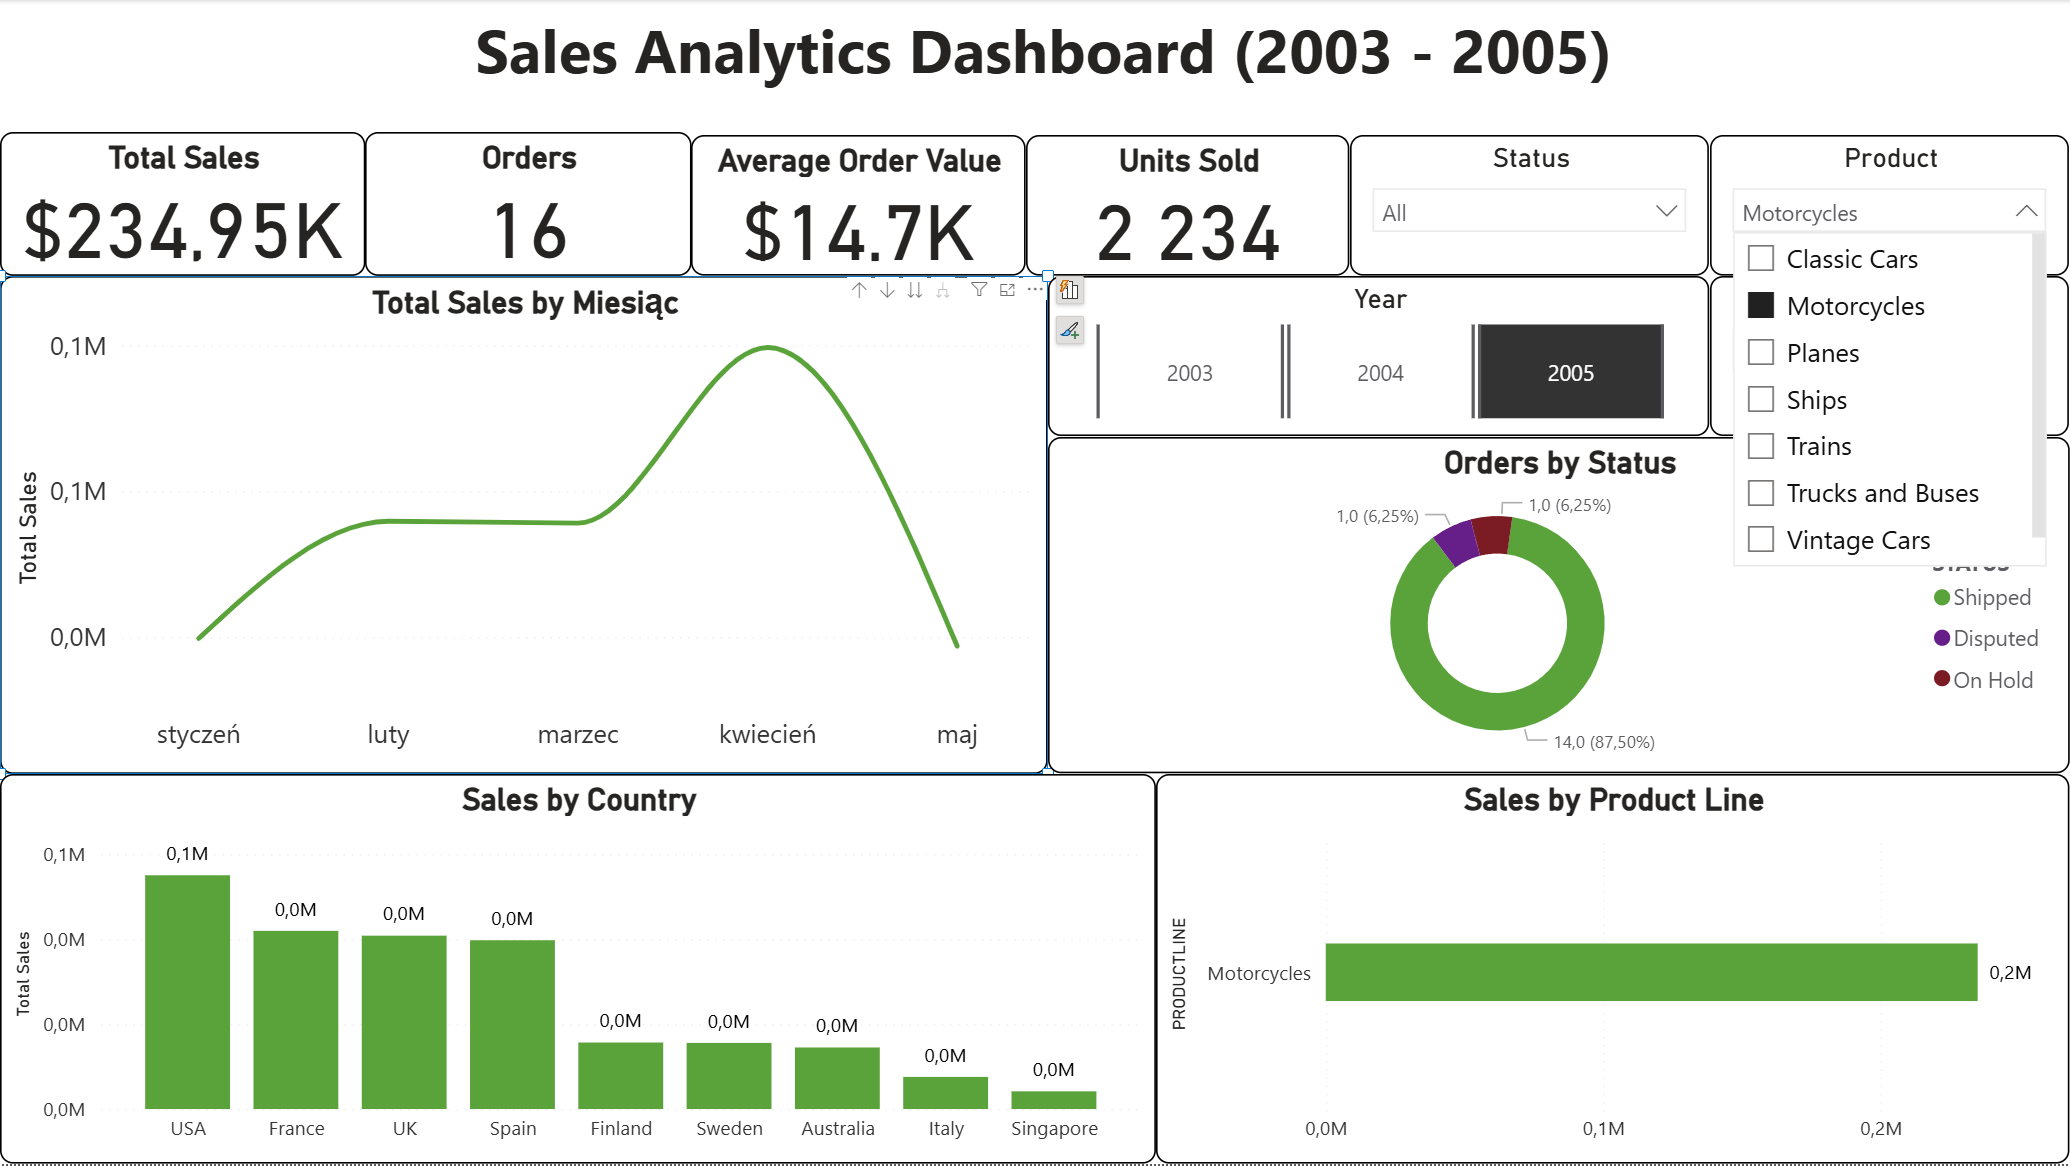

The dashboard page shown, as its layout file describes it:
{"tool":"powerbi","page":{"name":"Strona 1","canvas":[1280,720],"ordinal":0},"visuals":[{"type":"card","title":"Total Sales","fields":{"Values":["SALES.Total Sales"]},"box":[0,81.8,225.8,89.1],"z":0},{"type":"card","title":"Orders","fields":{"Values":["SALES.Number of Orders"]},"box":[225.8,81.8,201.7,89.1],"z":1000},{"type":"card","title":"Average Order Value","fields":{"Values":["SALES.Average Order Value"]},"box":[427.6,83.8,207.1,87.1],"z":2000},{"type":"card","title":"Units Sold","fields":{"Values":["SALES.Total Quantity"]},"box":[634.6,83.8,200.4,87.1],"z":3000},{"type":"lineChart","fields":{"Category":["SALES.ORDERDATE.Odmiana.Hierarchia dat.Rok","SALES.ORDERDATE.Odmiana.Hierarchia dat.Kwartał","SALES.ORDERDATE.Odmiana.Hierarchia dat.Miesiąc","SALES.ORDERDATE.Odmiana.Hierarchia dat.Dzień"],"Y":["SALES.Total Sales"]},"box":[0,170.9,648,307.6],"z":4000},{"type":"clusteredBarChart","title":"Sales by Product Line","fields":{"Category":["SALES.PRODUCTLINE"],"Y":["SALES.Total Sales"]},"box":[715.1,478.5,564.9,241.3],"z":5000},{"type":"clusteredColumnChart","title":" Sales by Country","fields":{"Category":["SALES.COUNTRY"],"Y":["SALES.Total Sales"]},"box":[0,478.5,715.1,241.3],"z":6000},{"type":"donutChart","title":"Orders by Status","fields":{"Y":["SALES.Number of Orders"],"Category":["SALES.STATUS"]},"box":[648,270.1,632,208.4],"z":7000},{"type":"slicer","title":"Year","fields":{"Values":["SALES.YEAR_ID"]},"box":[648,170.9,409.5,99.2],"z":8000},{"type":"slicer","title":"Status","fields":{"Values":["SALES.STATUS"]},"box":[835,83.8,222.5,87.1],"z":9000},{"type":"slicer","title":"Product","fields":{"Values":["SALES.PRODUCTLINE"]},"box":[1057.5,83.8,222.5,87.1],"z":10000},{"type":"slicer","title":"Country","fields":{"Values":["SALES.COUNTRY"]},"box":[1057.5,170.9,222.5,99.2],"z":11000},{"type":"textbox","box":[144.8,0,1001.9,75.7],"z":12000}]}

Visuals, with their boxes in screenshot pixels (x1, y1, x2, y2):
"Total Sales" card: (x1=11, y1=130, x2=371, y2=273)
"Orders" card: (x1=371, y1=130, x2=693, y2=273)
"Average Order Value" card: (x1=693, y1=134, x2=1023, y2=273)
"Units Sold" card: (x1=1023, y1=134, x2=1342, y2=273)
lineChart - SALES.ORDERDATE.Odmiana.Hierarchia dat.Rok x SALES.ORDERDATE.Odmiana.Hierarchia dat.Kwartał: (x1=11, y1=273, x2=1044, y2=763)
"Sales by Product Line" clusteredBarChart: (x1=1151, y1=763, x2=2052, y2=1148)
" Sales by Country" clusteredColumnChart: (x1=11, y1=763, x2=1151, y2=1148)
"Orders by Status" donutChart: (x1=1044, y1=431, x2=2052, y2=763)
"Year" slicer: (x1=1044, y1=273, x2=1697, y2=431)
"Status" slicer: (x1=1342, y1=134, x2=1697, y2=273)
"Product" slicer: (x1=1697, y1=134, x2=2052, y2=273)
"Country" slicer: (x1=1697, y1=273, x2=2052, y2=431)
textbox: (x1=242, y1=0, x2=1840, y2=121)
